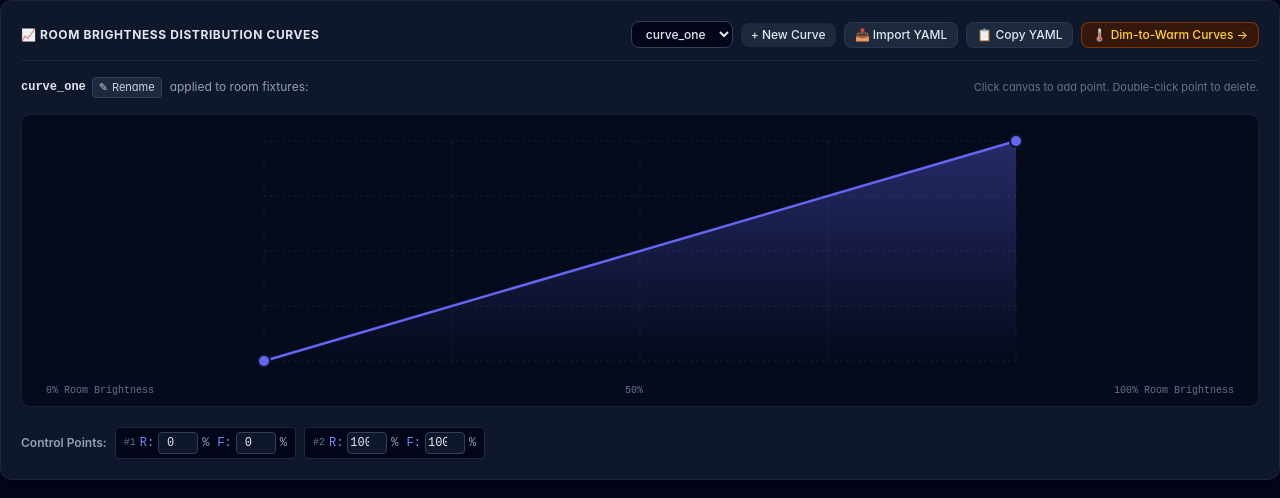
Test: CurveEditor.vue › rejects duplicate curve name and displays error message
Click the button "✎ Rename" at (127, 87), box [92, 77, 162, 98]
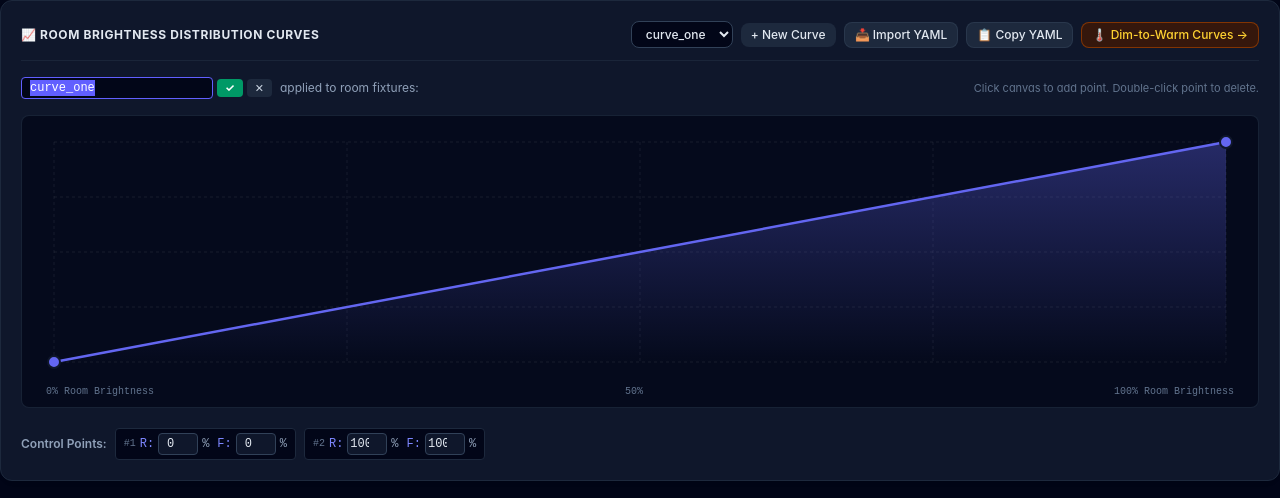
Replace the text in the field with placeholder "Curve name" with "curve_two" at (117, 88), box [21, 77, 213, 99]
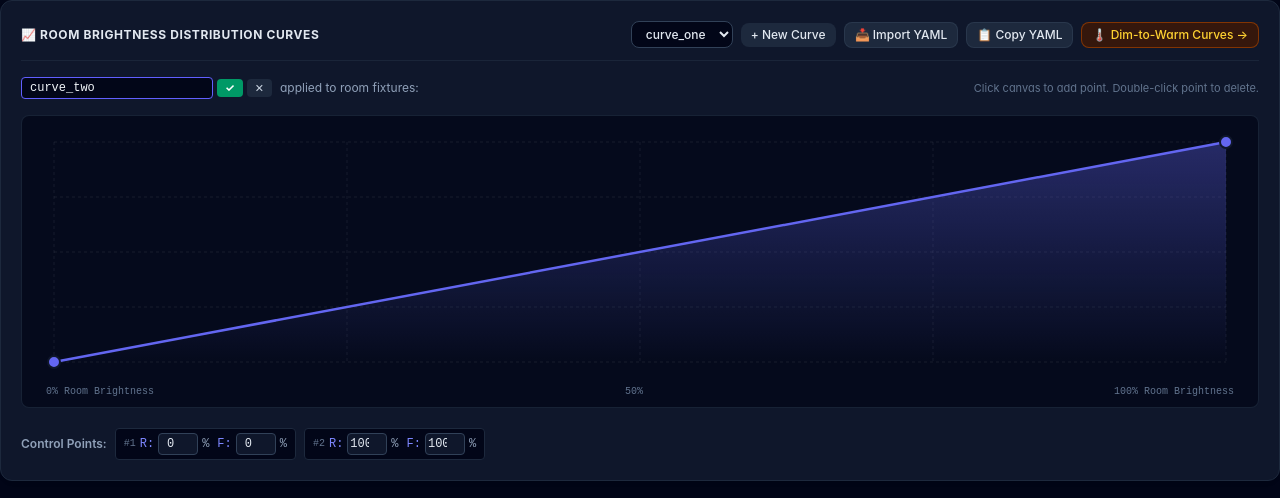
Click the button titled "Save new name" at (230, 88), box [217, 79, 243, 97]
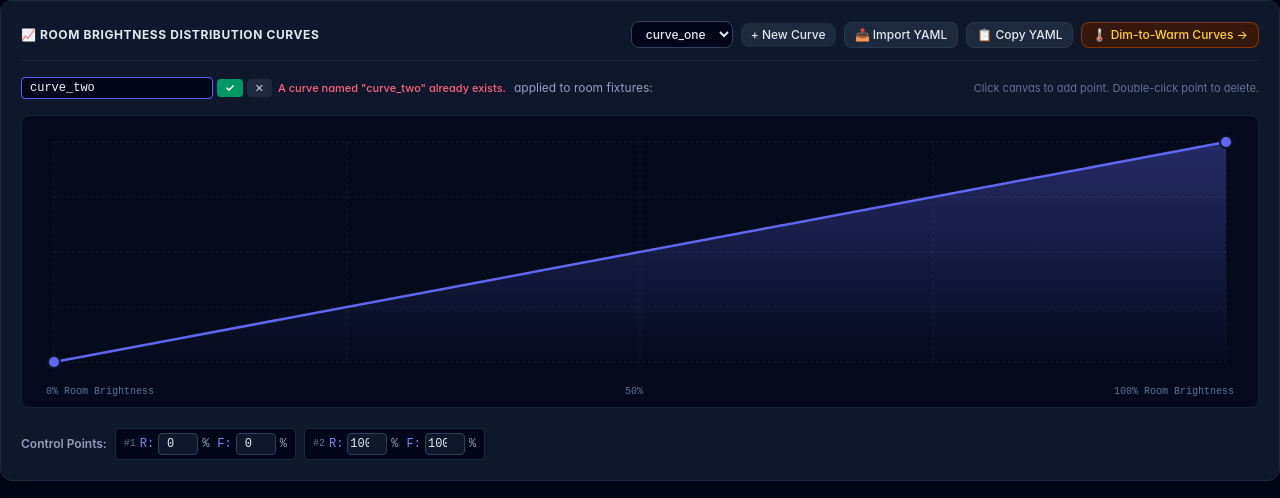
expect the text "A curve named \"curve_two\" already exists." is shown: met, box [278, 81, 506, 95]
